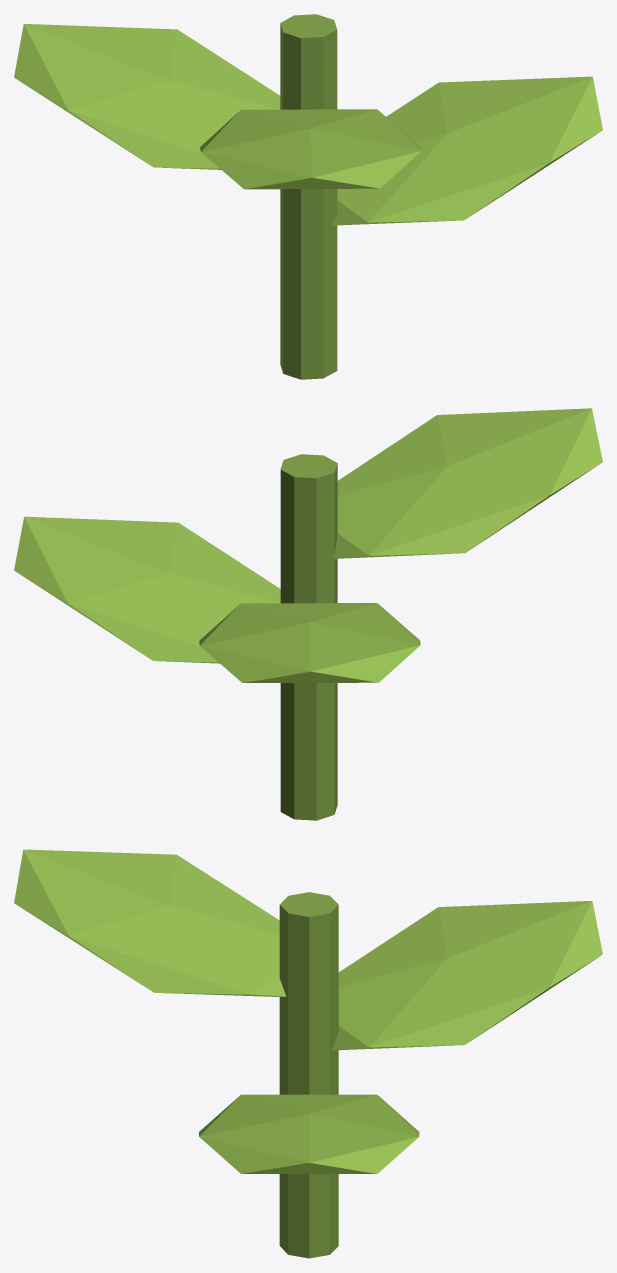
File: harvest_drop_tobacco.glb
3 renders of one model, top to bottom at view 1: azimuth 30°, elevation 25°; view 2: azimuth 150°, elevation 25°; view 3: azimuth 270°, elevation 25°, orthographic.
Visible parts, largest first — view 1: FTF_Harvest_Drop_Tobacco_Leaves_Mesh; view 2: FTF_Harvest_Drop_Tobacco_Leaves_Mesh; view 3: FTF_Harvest_Drop_Tobacco_Leaves_Mesh.
Part boxes in pixels (left/top/right/bottom): FTF_Harvest_Drop_Tobacco_Leaves_Mesh: left=14, top=14, right=602, bottom=379; FTF_Harvest_Drop_Tobacco_Leaves_Mesh: left=14, top=408, right=602, bottom=820; FTF_Harvest_Drop_Tobacco_Leaves_Mesh: left=14, top=849, right=602, bottom=1258.
Size of the model in its own units: 0.4573 by 0.32 by 0.5002.
